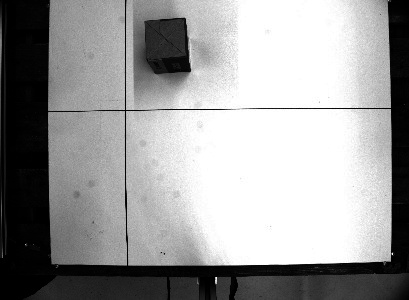b4: (140, 15, 193, 74)
